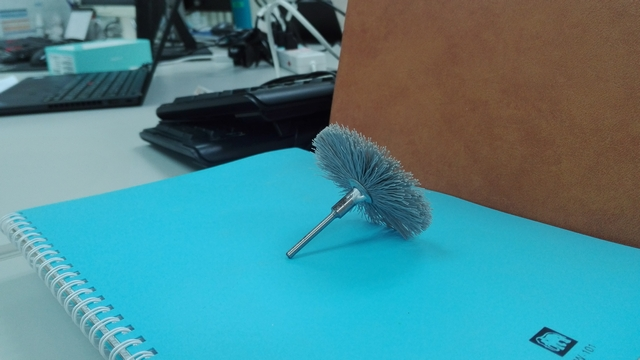TOOL: (263, 112, 470, 268), (233, 103, 412, 268)
